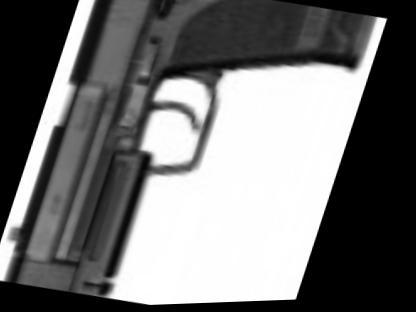pistol: (0, 0, 377, 310)
